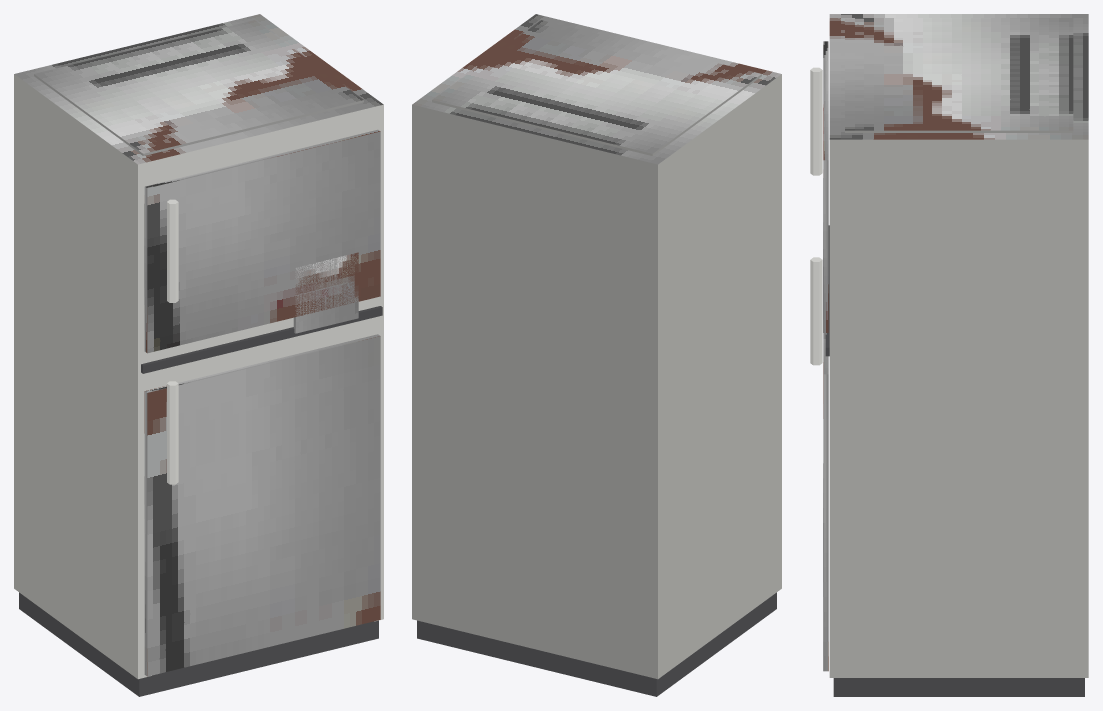
The model's file is Building_AncientRefrigerator.glb.
The picture shows the model from 3 angles, left to right: view 1: azimuth 30°, elevation 25°; view 2: azimuth 150°, elevation 25°; view 3: azimuth 270°, elevation 25°; orthographic projection. The views are drawn at different scales.
Visible parts, largest first — view 1: AncientRefrigerator; view 2: AncientRefrigerator; view 3: AncientRefrigerator.
Part boxes in pixels (left/top/right/bottom): AncientRefrigerator: left=14, top=14, right=383, bottom=696; AncientRefrigerator: left=412, top=14, right=781, bottom=696; AncientRefrigerator: left=810, top=14, right=1088, bottom=696.
Size of the model in its own units: 0.78 by 1.63 by 0.731.
Materials: 1 (1 with a texture image).
